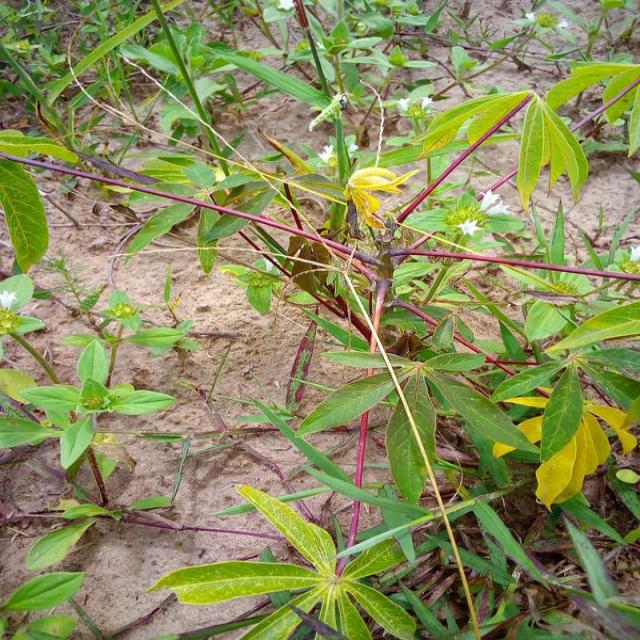cassava leaf: (384, 372, 437, 505)
